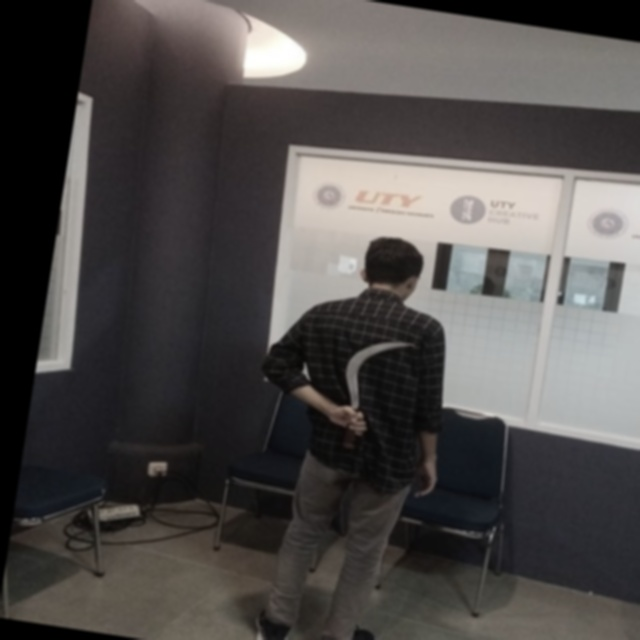Sharp-Object: (316, 325, 422, 449)
